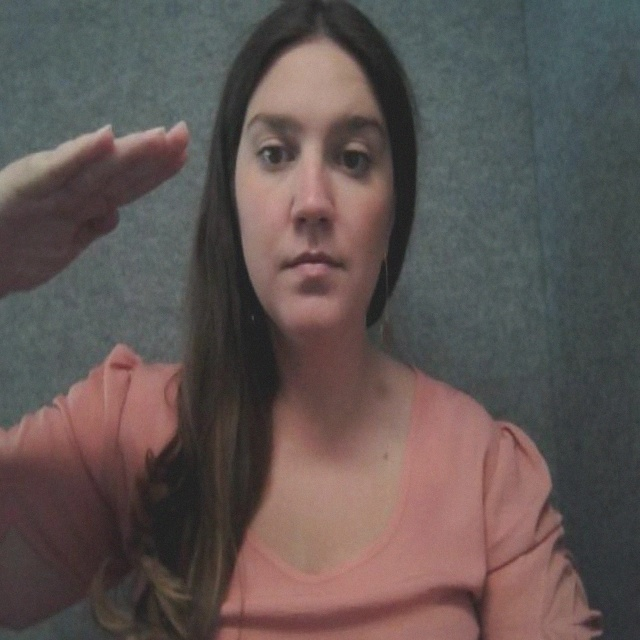Paper: (0, 90, 203, 294)
